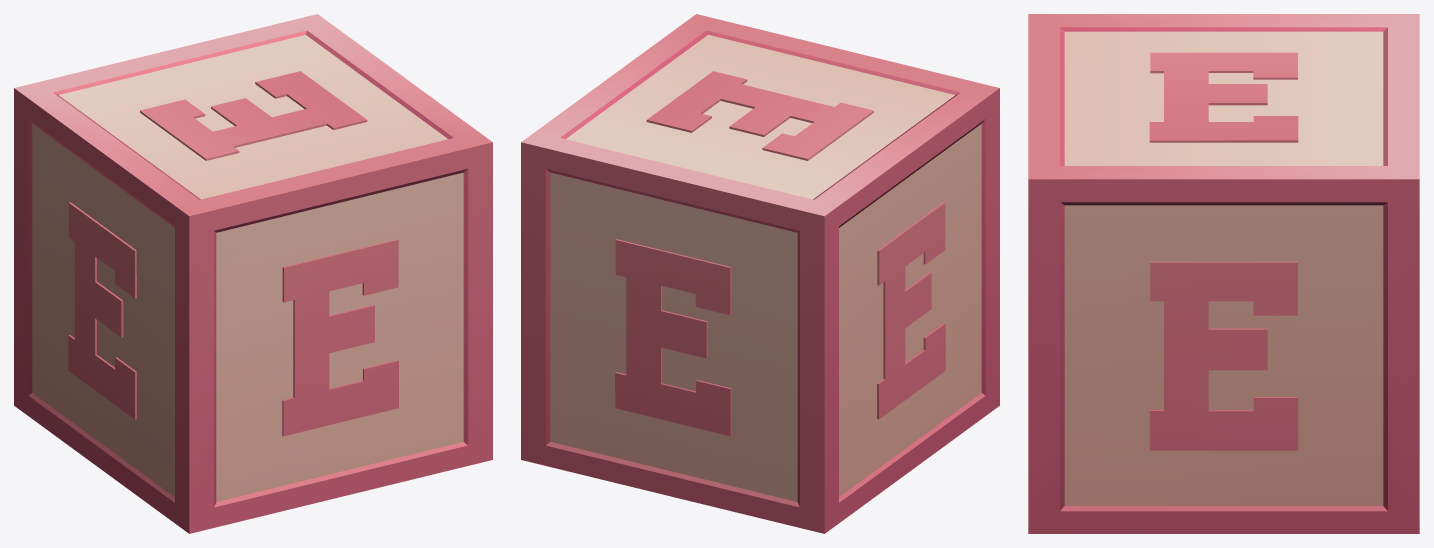
File: Doll_OB_Blocks_005.FBX
3 renders of one model, left to right at view 1: azimuth 30°, elevation 25°; view 2: azimuth 150°, elevation 25°; view 3: azimuth 270°, elevation 25°, orthographic. The views are drawn at different scales.
Parts seen in each view (by area): view 1: Doll_OB_Blocks_005; view 2: Doll_OB_Blocks_005; view 3: Doll_OB_Blocks_005.
Boxes of the visible parts, <box> form: Doll_OB_Blocks_005: <box>14,14,492,533</box>; Doll_OB_Blocks_005: <box>521,14,999,533</box>; Doll_OB_Blocks_005: <box>1028,14,1419,533</box>.
Size of the model in its own units: 20.66 by 20.66 by 20.66.
